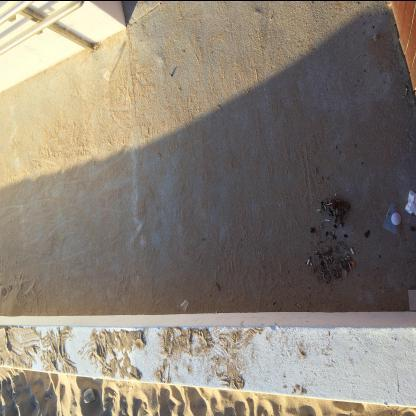kagit: (405, 190, 416, 218), (181, 299, 191, 311)
plastik: (104, 70, 112, 82)
